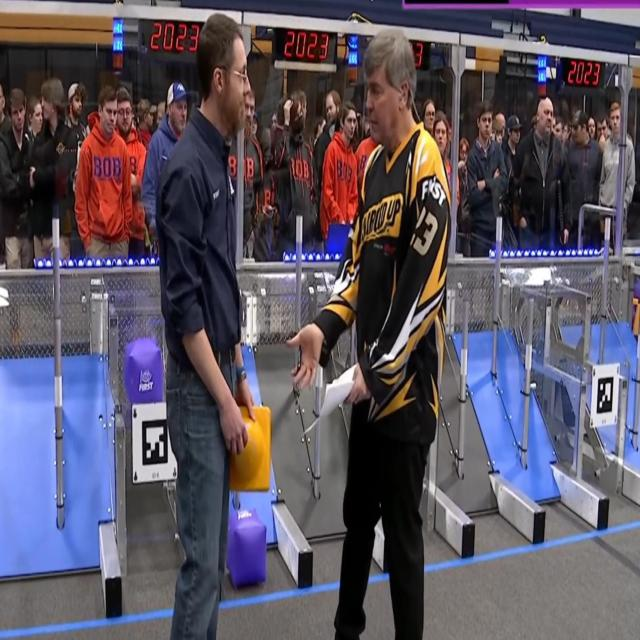frc_cone: (229, 405, 270, 490), (632, 303, 640, 336)
frc_cube: (226, 507, 267, 580), (124, 338, 162, 402), (635, 278, 640, 294)
